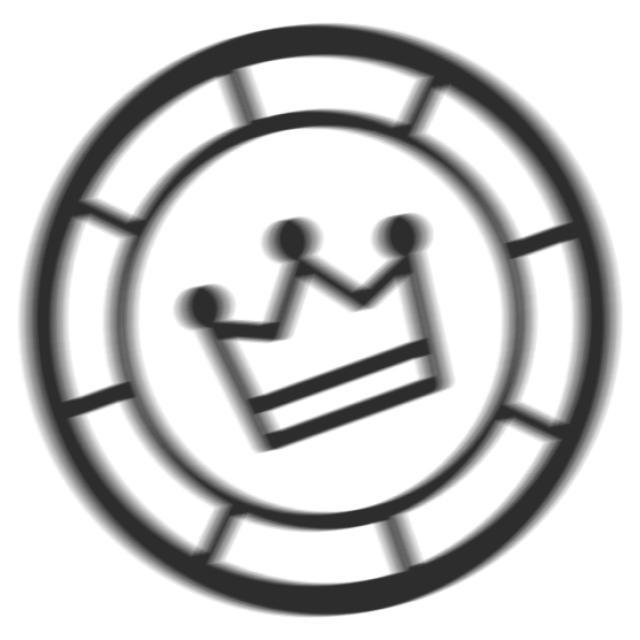coin: (14, 12, 628, 633)
